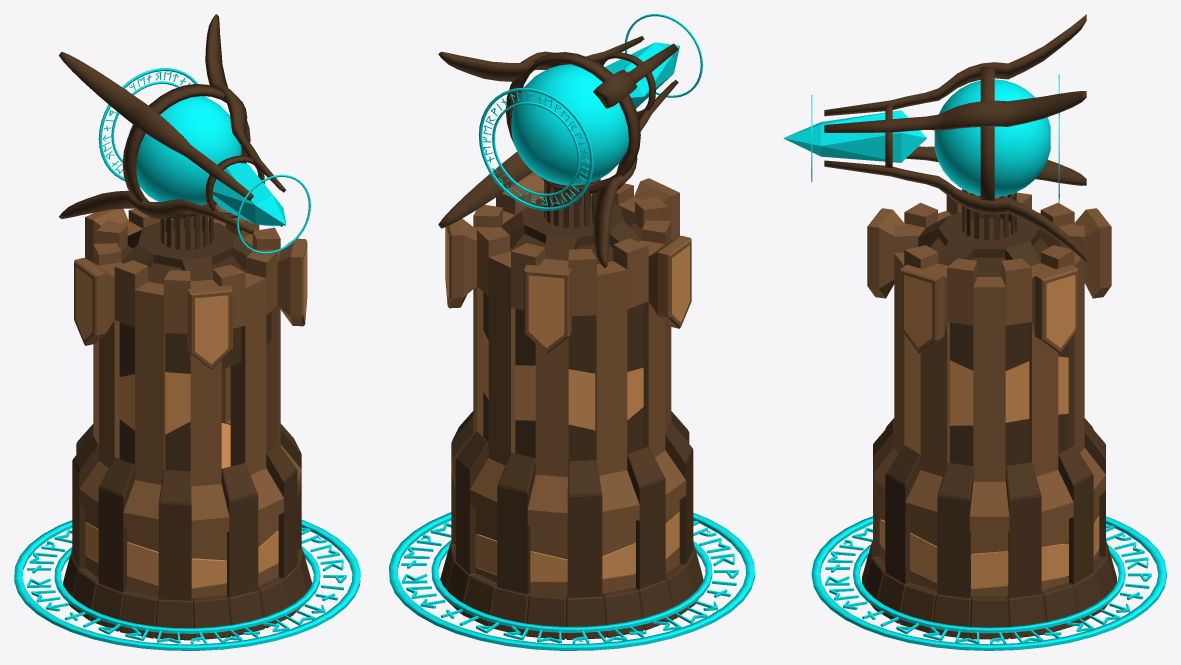
File: MagicTower_1(final).fbx
3 renders of one model, left to right at view 1: azimuth 30°, elevation 25°; view 2: azimuth 150°, elevation 25°; view 3: azimuth 270°, elevation 25°, orthographic. The views are drawn at different scales.
Visible parts, largest first — view 1: 1.Tower, 1.magic.canon; view 2: 1.Tower, 1.magic.canon; view 3: 1.Tower, 1.magic.canon.
Boxes of the visible parts, <box> form: 1.Tower: <box>14,200,360,650</box>; 1.magic.canon: <box>59,14,310,254</box>; 1.Tower: <box>389,172,754,650</box>; 1.magic.canon: <box>438,14,702,268</box>; 1.Tower: <box>811,189,1166,650</box>; 1.magic.canon: <box>783,14,1086,262</box>.
Bounding box in the file's own units: 183 × 303 × 197.
